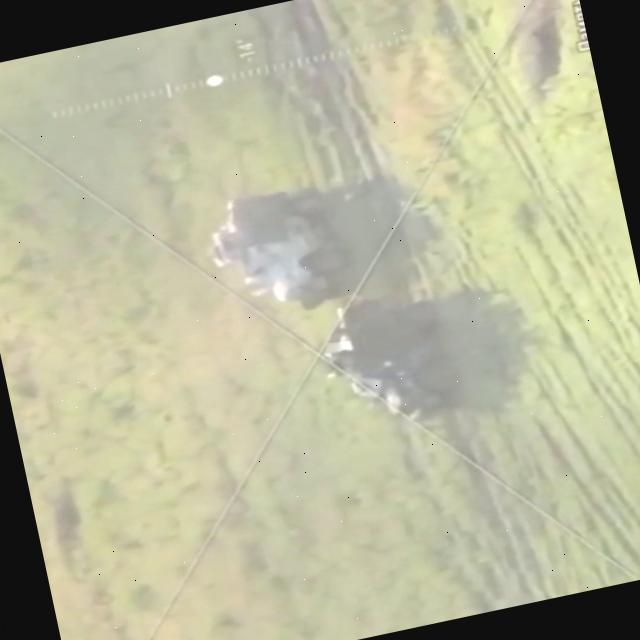Vehicle: (314, 285, 462, 438), (200, 177, 347, 322)
